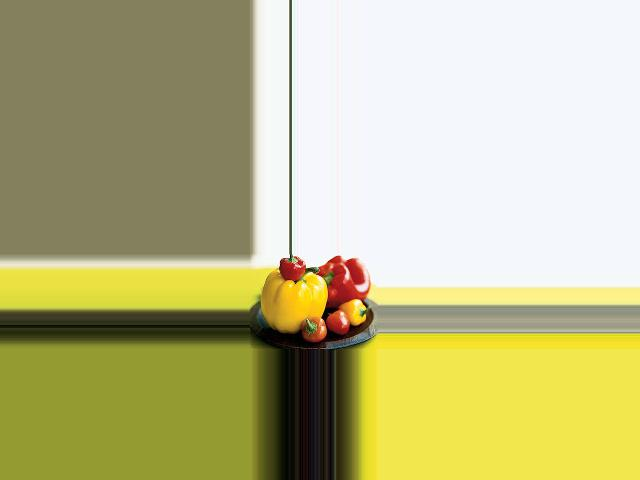bell_pepper: (341, 298, 369, 324)
